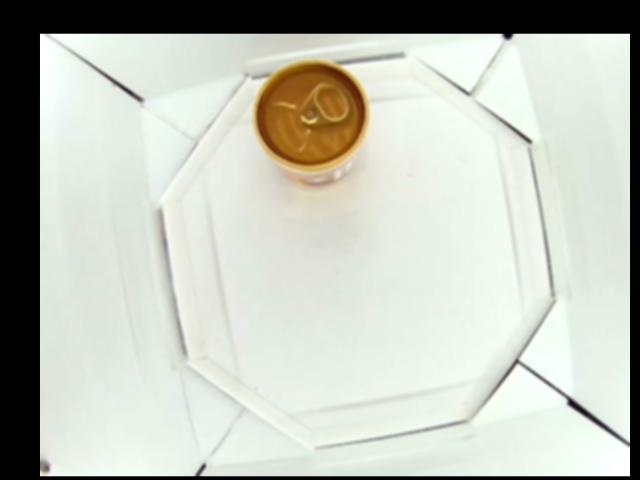Bottle: (252, 59, 370, 188)
